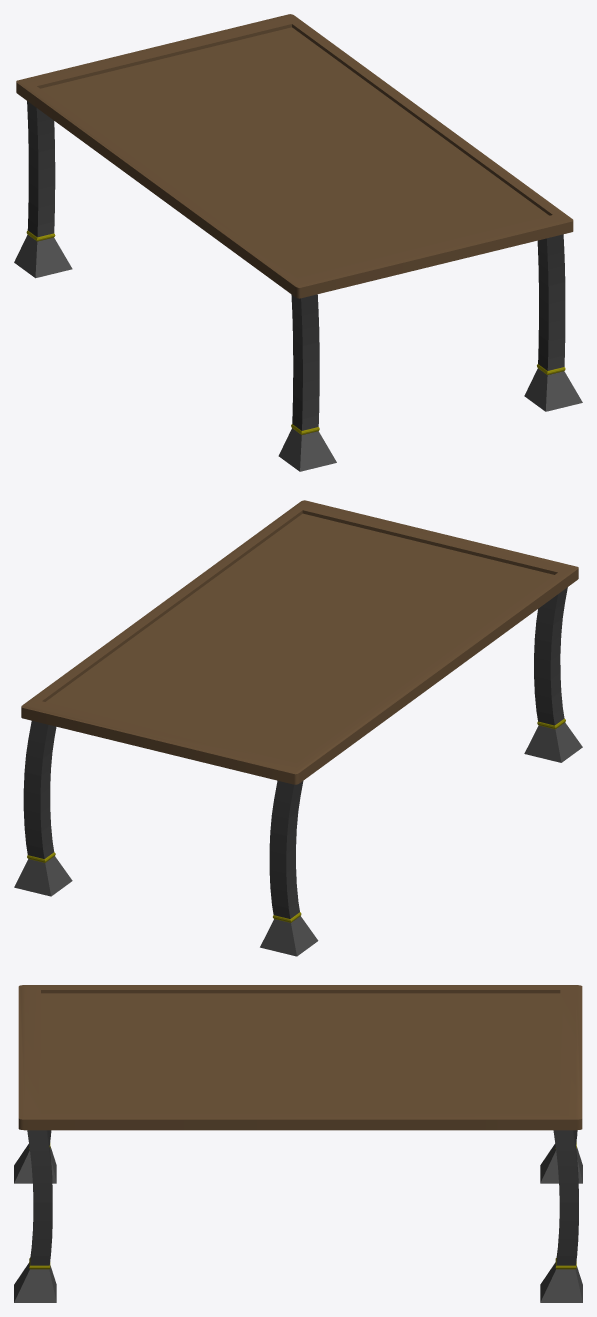
File: TableRectangle.fbx
3 views of the same model, one above another, from view 1: azimuth 30°, elevation 25°; view 2: azimuth 150°, elevation 25°; view 3: azimuth 270°, elevation 25° (orthographic).
Parts seen in each view (by area): view 1: TableRectangle; view 2: TableRectangle; view 3: TableRectangle.
Part boxes in pixels (x1=…): TableRectangle: x1=14, y1=14, x2=582, y2=471; TableRectangle: x1=14, y1=500, x2=582, y2=956; TableRectangle: x1=14, y1=985, x2=582, y2=1302.
Bounding box in the file's own units: 167 × 103 × 293.
